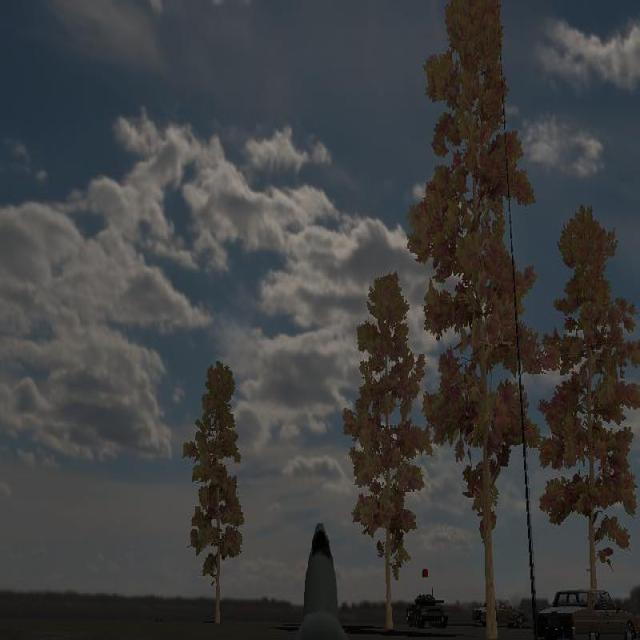Tank: (406, 592, 448, 629)
car: (537, 590, 638, 640), (472, 596, 524, 629)
